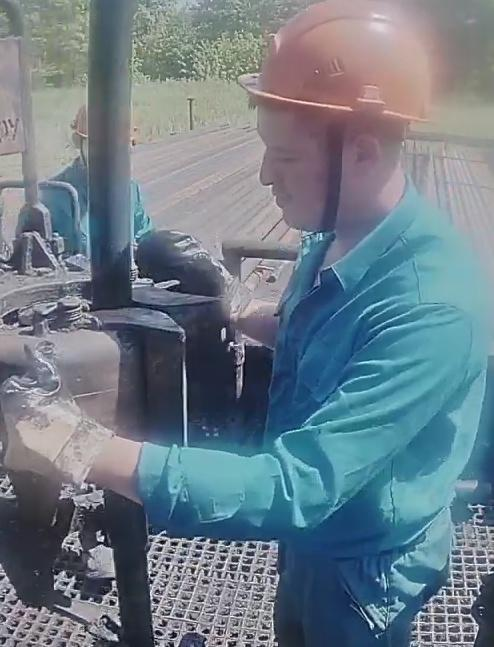gloves: (2, 340, 111, 492), (132, 221, 254, 334)
helmet: (231, 4, 437, 127), (65, 104, 137, 148)
vest: (259, 226, 492, 582)
